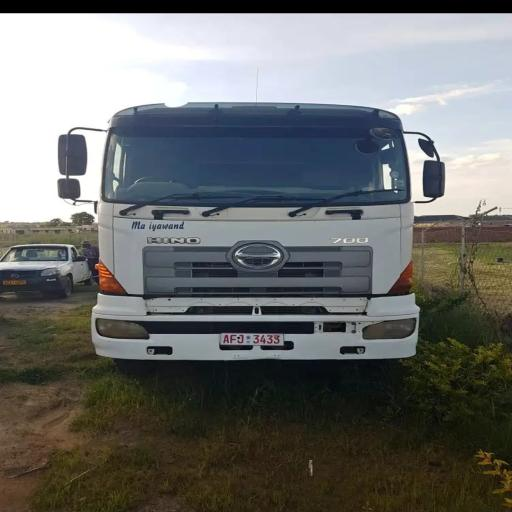number-plates: (218, 333, 287, 347)
